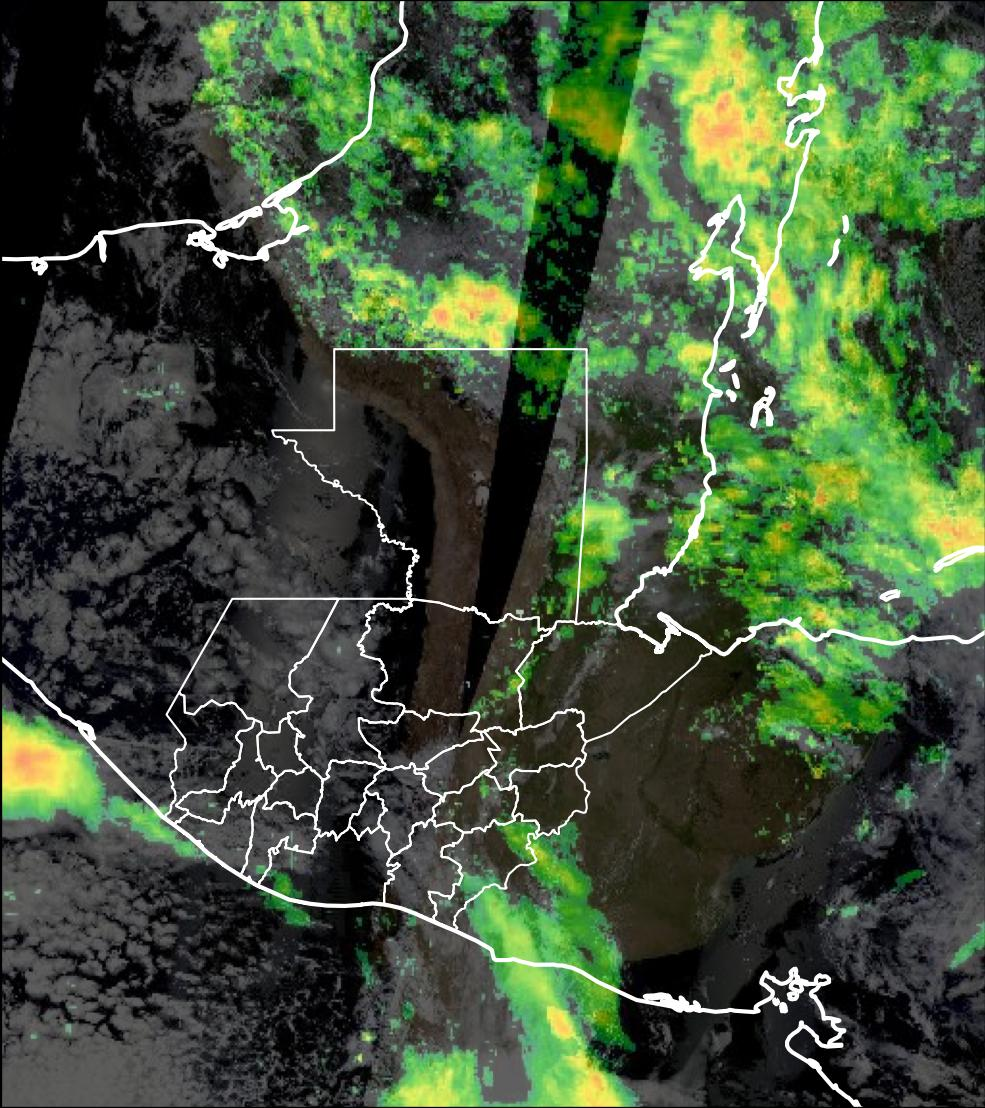precipitacion: (682, 95, 779, 182), (424, 276, 527, 342), (1, 732, 72, 796)
